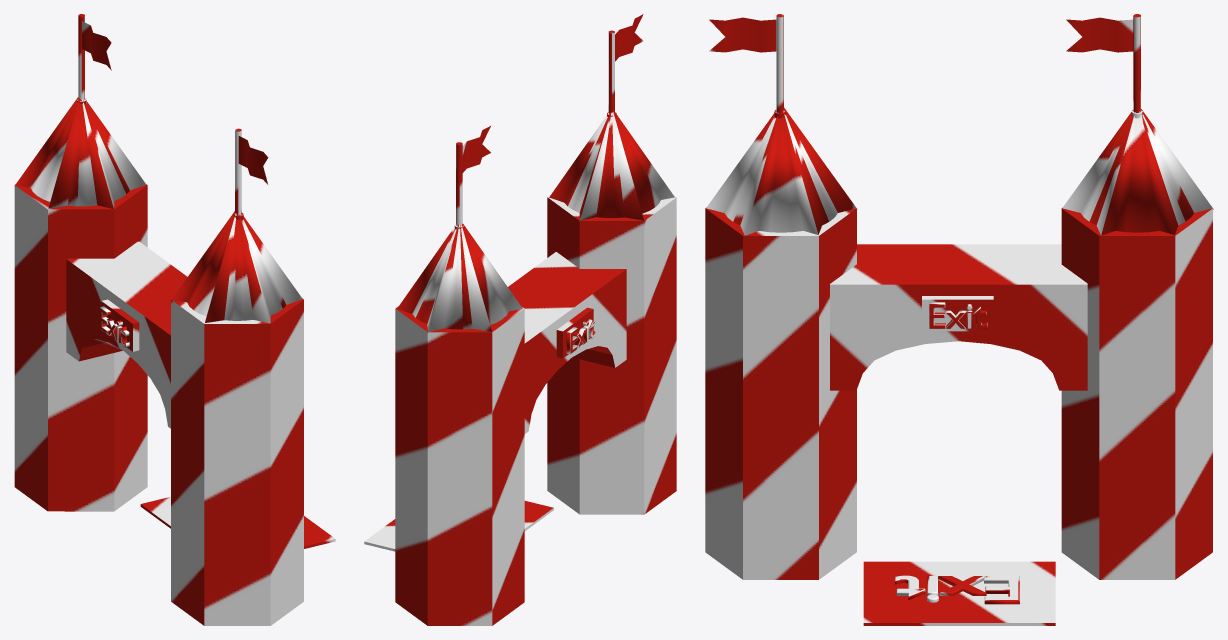
Rendered from Exit.fbx.
3 views of the same model, side by side, from view 1: azimuth 30°, elevation 25°; view 2: azimuth 150°, elevation 25°; view 3: azimuth 270°, elevation 25° (orthographic). The views are drawn at different scales.
Parts seen in each view (by area): view 1: Exit_Baked; view 2: Exit_Baked; view 3: Exit_Baked.
Boxes of the visible parts, x1=… form: Exit_Baked: x1=14, y1=14, x2=335, y2=625; Exit_Baked: x1=364, y1=14, x2=676, y2=625; Exit_Baked: x1=705, y1=14, x2=1213, y2=625.
Bounding box in the file's own units: 414 × 1012 × 869.
1 material, 1 textured.
